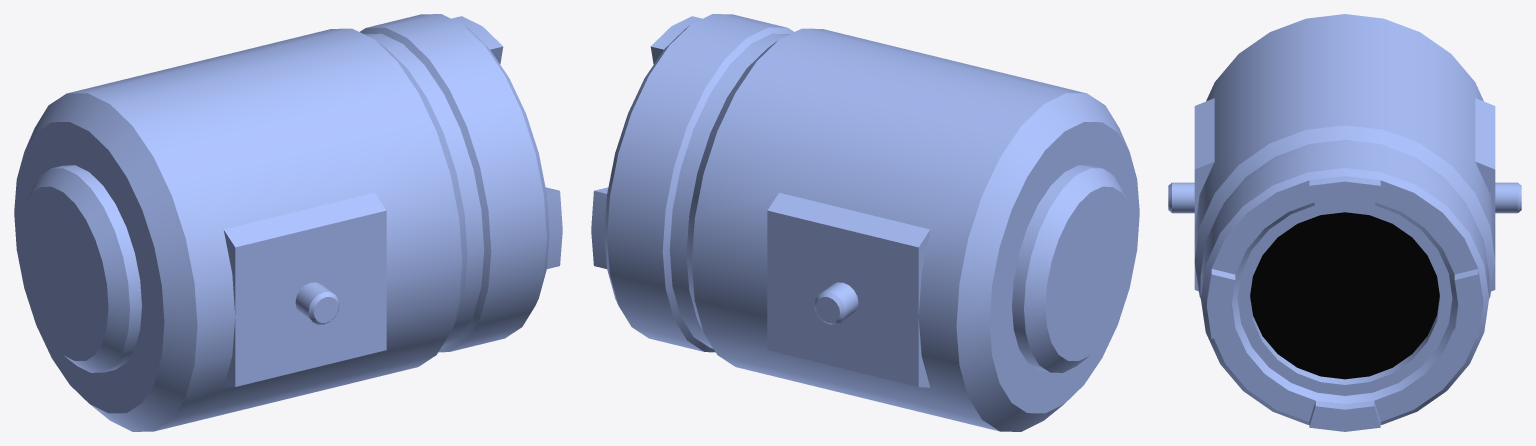
Rendered from SM_Spotlight.FBX.
3 renders of one model, left to right at view 1: azimuth 30°, elevation 25°; view 2: azimuth 150°, elevation 25°; view 3: azimuth 270°, elevation 25°, orthographic. The views are drawn at different scales.
Visible parts, largest first — view 1: SM_Spotlight; view 2: SM_Spotlight; view 3: SM_Spotlight.
Boxes of the visible parts, x1,y1,x2,y2 form: SM_Spotlight: (14, 14, 562, 431); SM_Spotlight: (591, 14, 1139, 431); SM_Spotlight: (1168, 14, 1521, 431).
Bounding box in the file's own units: 55.42 × 46.97 × 40.
